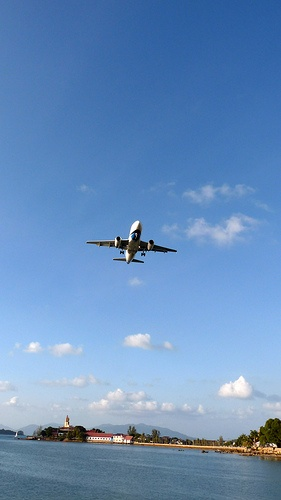airplane: (89, 219, 268, 483)
